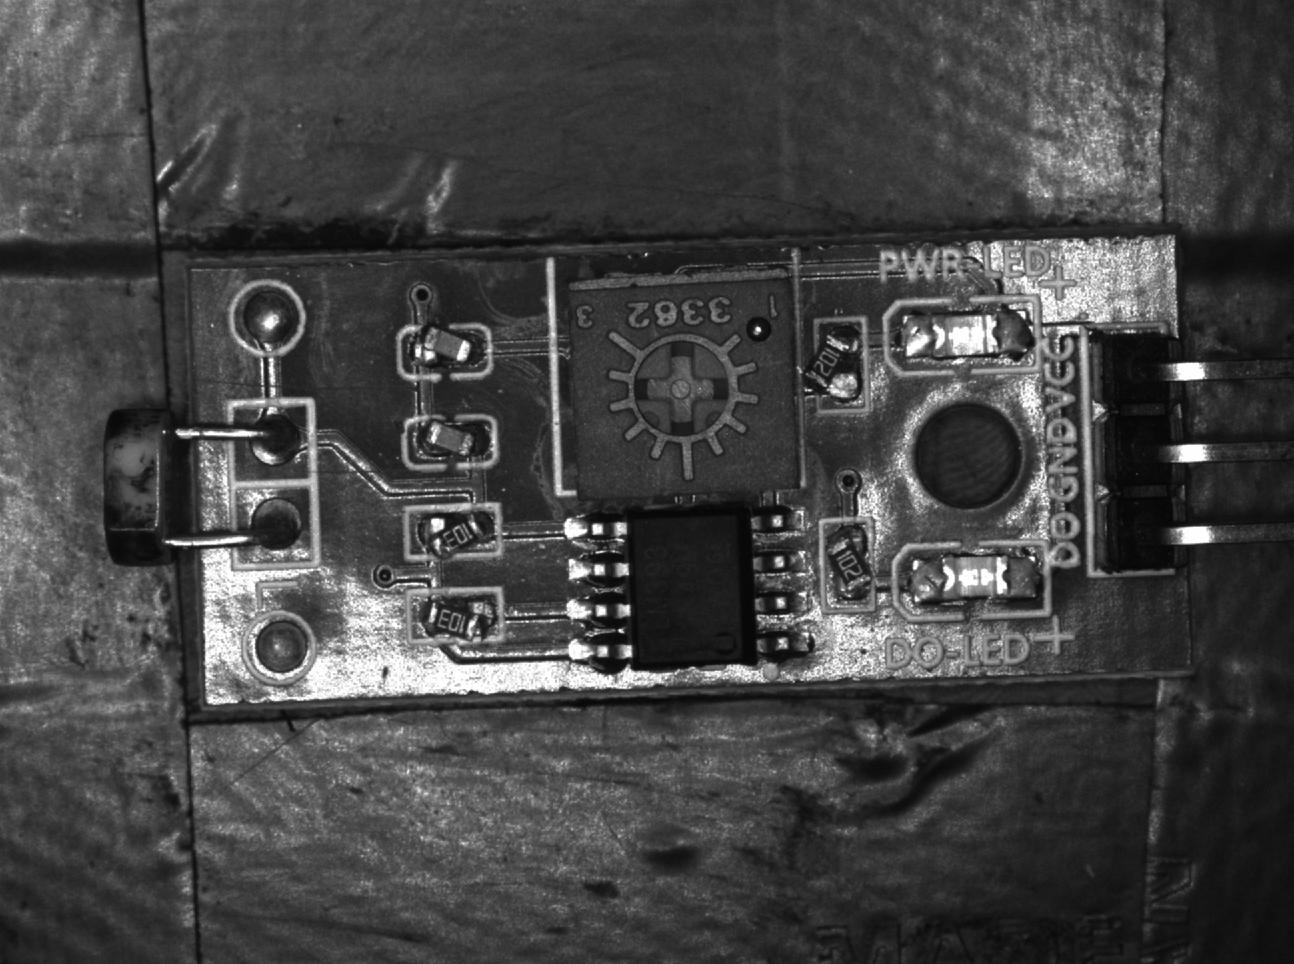lifted: (807, 318, 867, 414), (407, 589, 504, 648), (397, 323, 495, 379), (821, 521, 875, 611), (409, 508, 499, 561), (403, 416, 499, 464)
